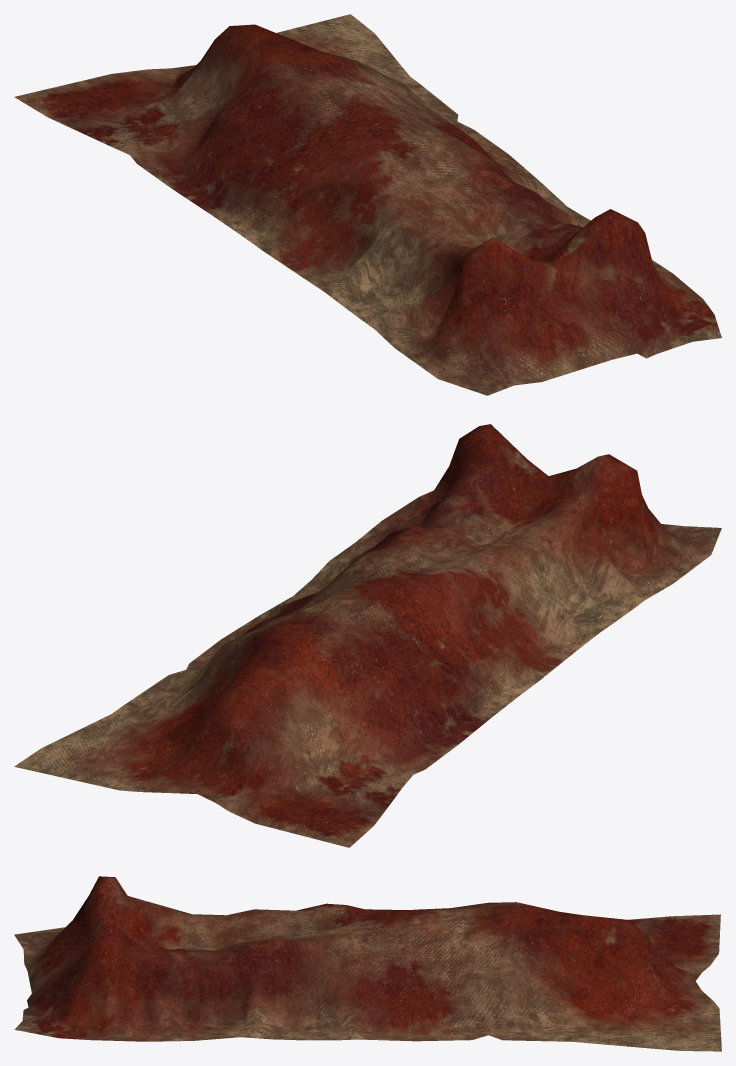
The model's file is cadaver4.fbx.
3 renders of one model, top to bottom at view 1: azimuth 30°, elevation 25°; view 2: azimuth 150°, elevation 25°; view 3: azimuth 270°, elevation 25°, orthographic. The views are drawn at different scales.
Parts seen in each view (by area): view 1: muerto; view 2: muerto; view 3: muerto.
Part boxes in pixels (box(x1,y1,x2,y2)): muerto: box(14, 14, 721, 395); muerto: box(14, 424, 721, 847); muerto: box(14, 876, 721, 1051).
Bounding box in the file's own units: 96.59 × 30.14 × 211.
Materials: 1 (1 with a texture image).
